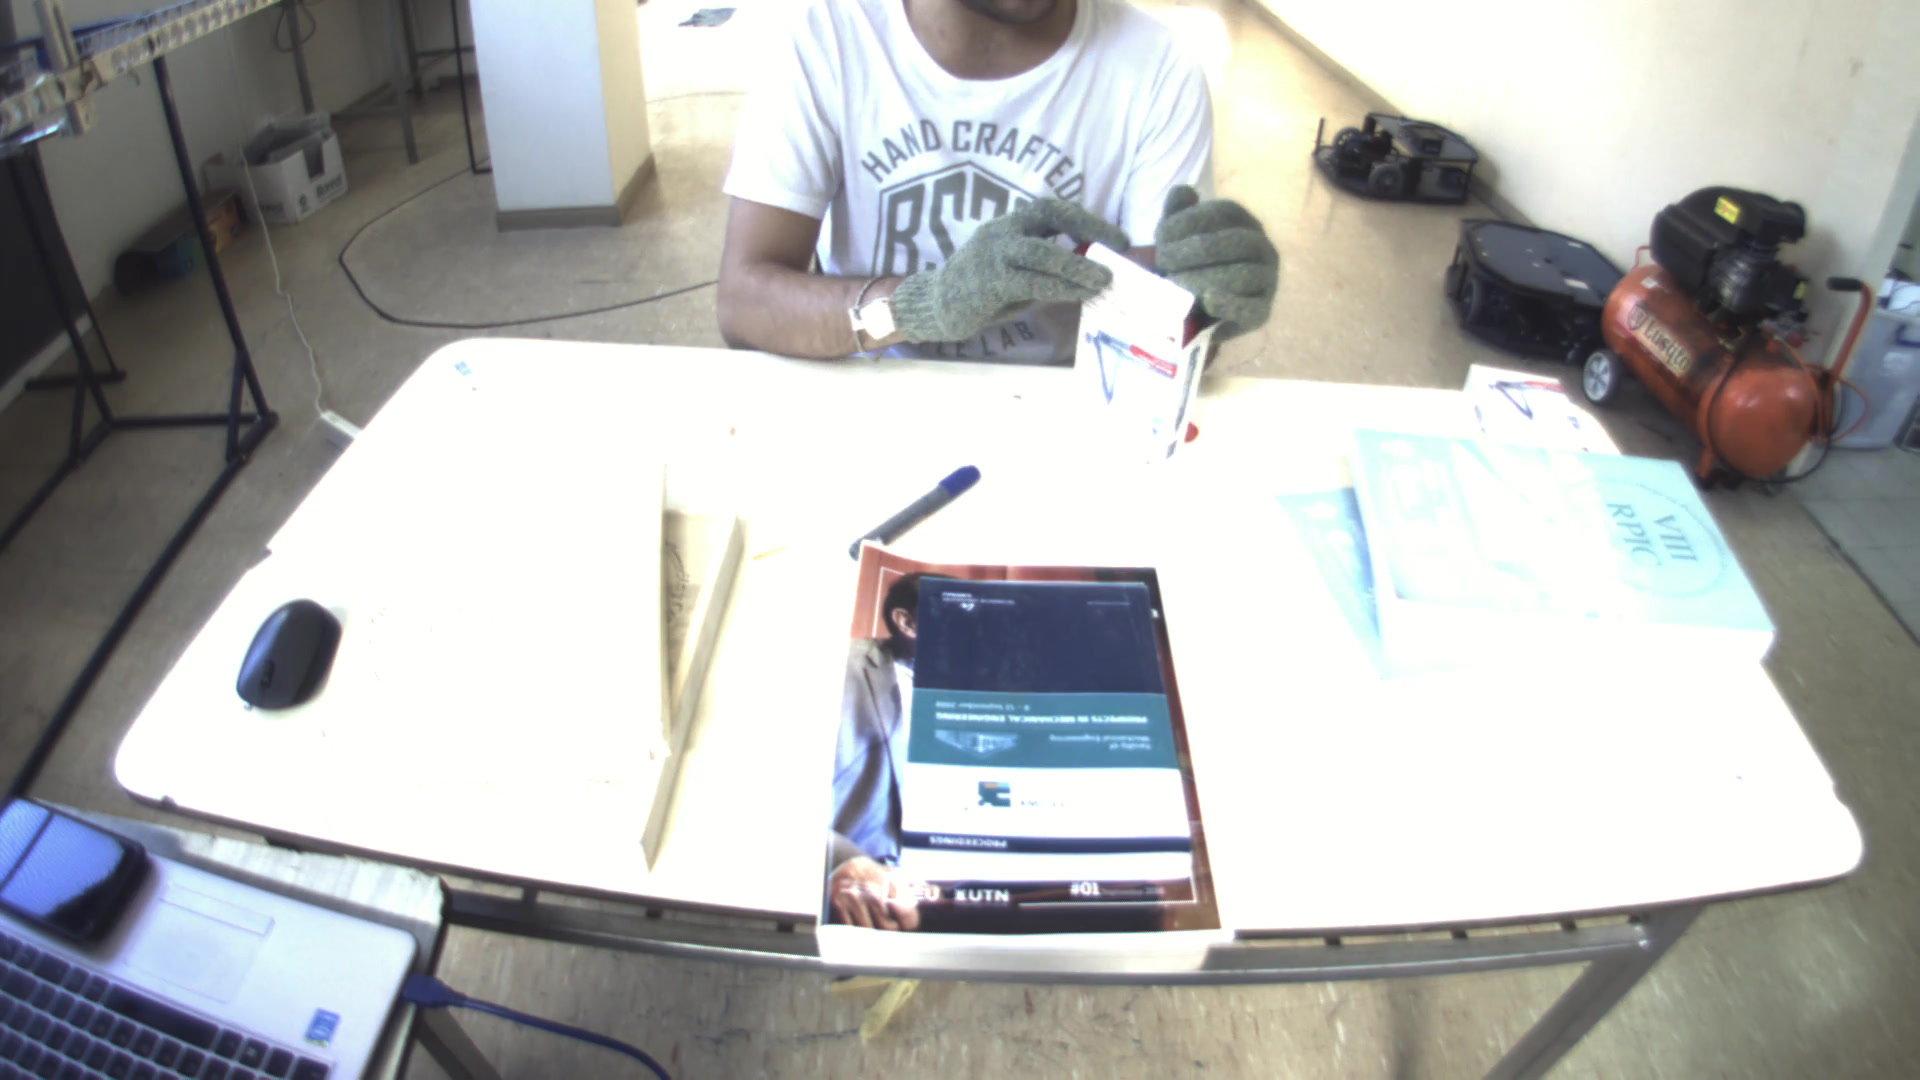hand: (857, 203, 1120, 352), (1147, 187, 1292, 324)
